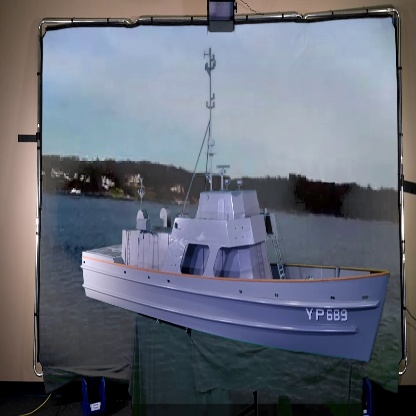YP689: (78, 44, 394, 368)
